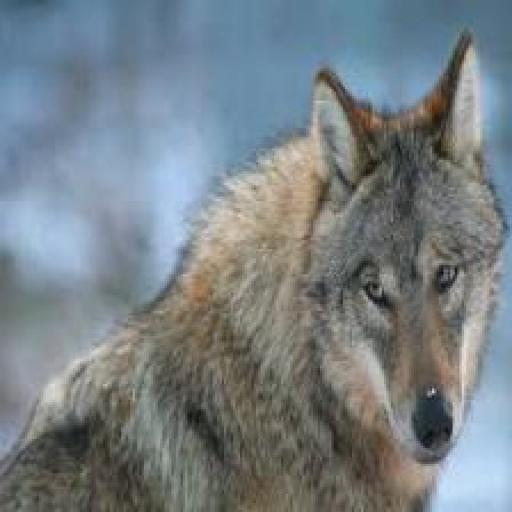wolf: (0, 23, 512, 512)
